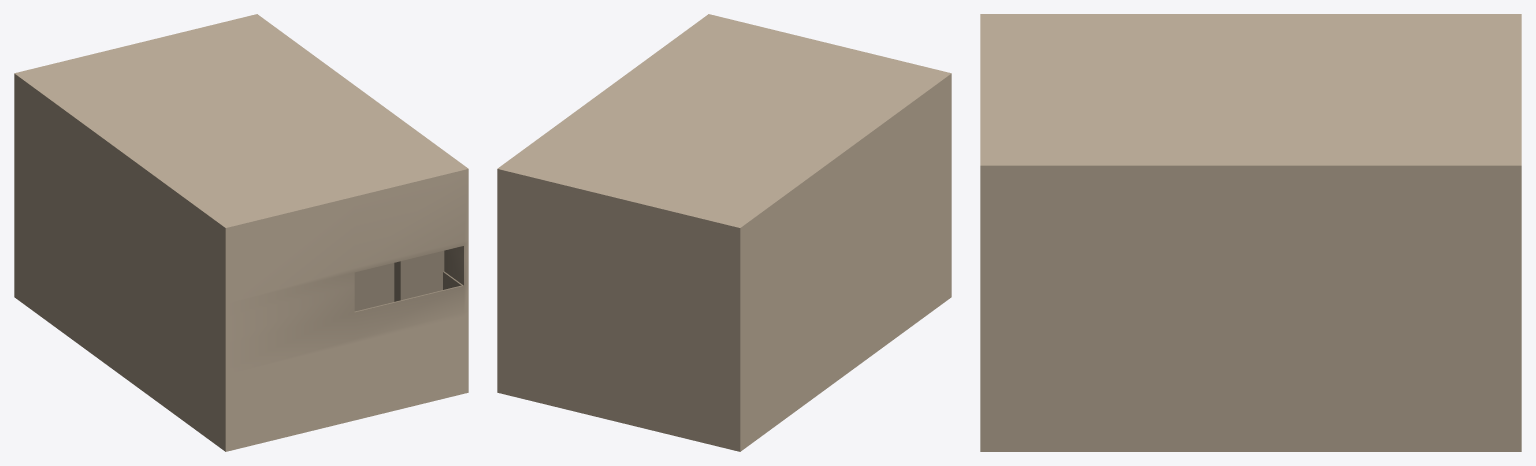
File: massing.glb
3 renders of one model, left to right at view 1: azimuth 30°, elevation 25°; view 2: azimuth 150°, elevation 25°; view 3: azimuth 270°, elevation 25°, orthographic. The views are drawn at different scales.
Parts seen in each view (by area): view 1: building/exterior; view 2: building/exterior; view 3: building/exterior.
Part boxes in pixels (left/top/right/bottom): building/exterior: left=14, top=14, right=468, bottom=451; building/exterior: left=497, top=14, right=951, bottom=451; building/exterior: left=980, top=14, right=1521, bottom=451.
Size of the model in its own units: 10 by 8.8 by 15.07.
